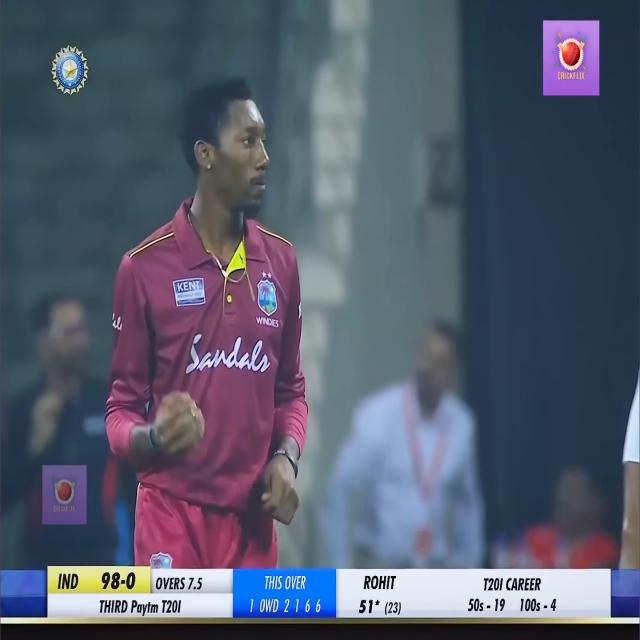fully_visible: (128, 596, 161, 620)
